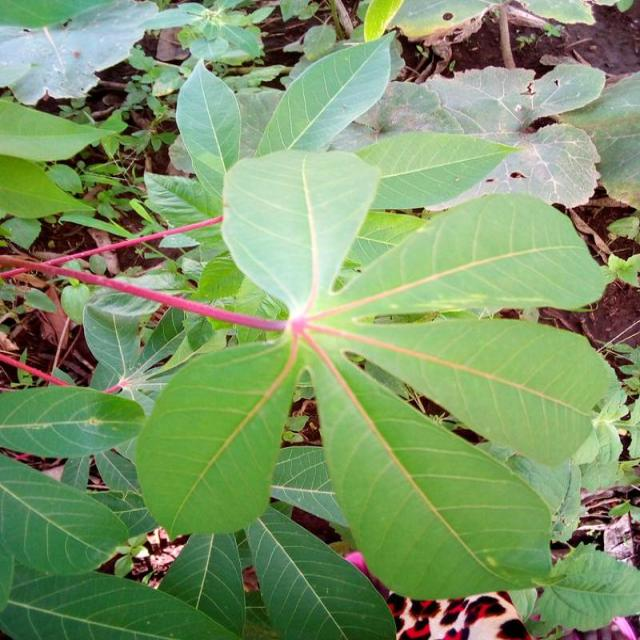cassava leaf: (302, 337, 554, 601), (134, 334, 302, 541), (219, 146, 379, 317), (253, 30, 399, 157)
